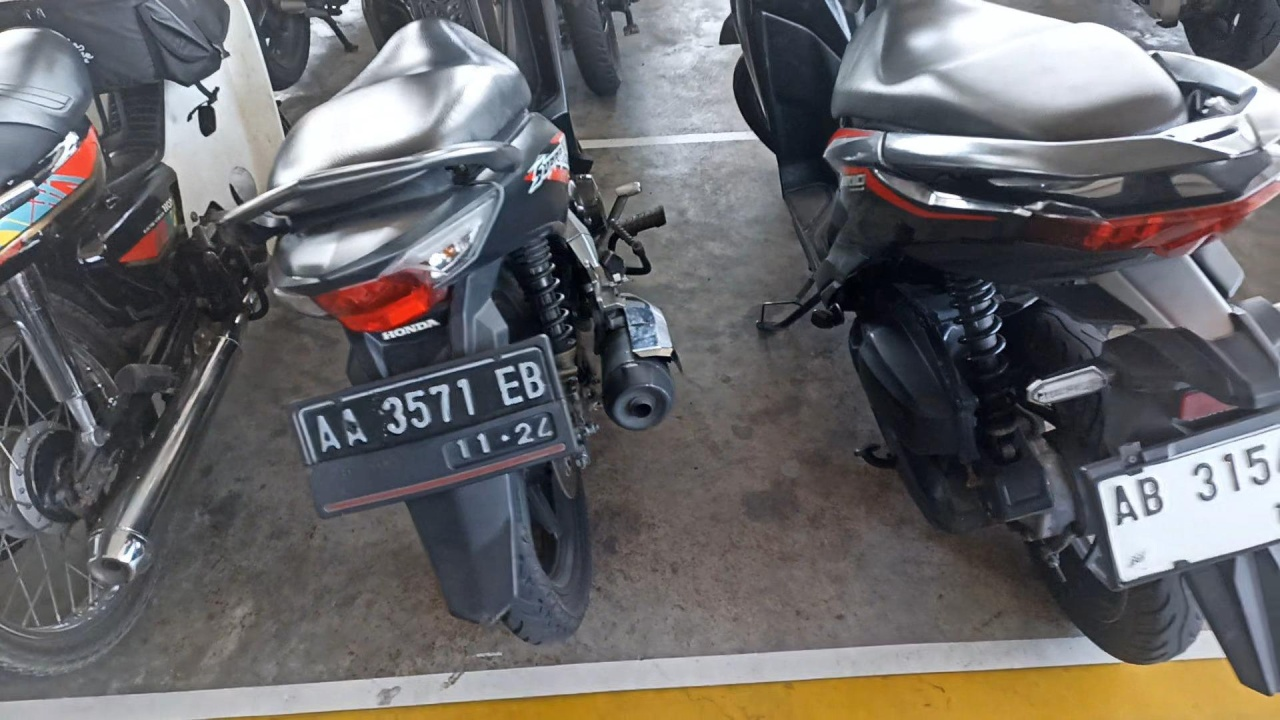plate: (290, 340, 575, 519)
